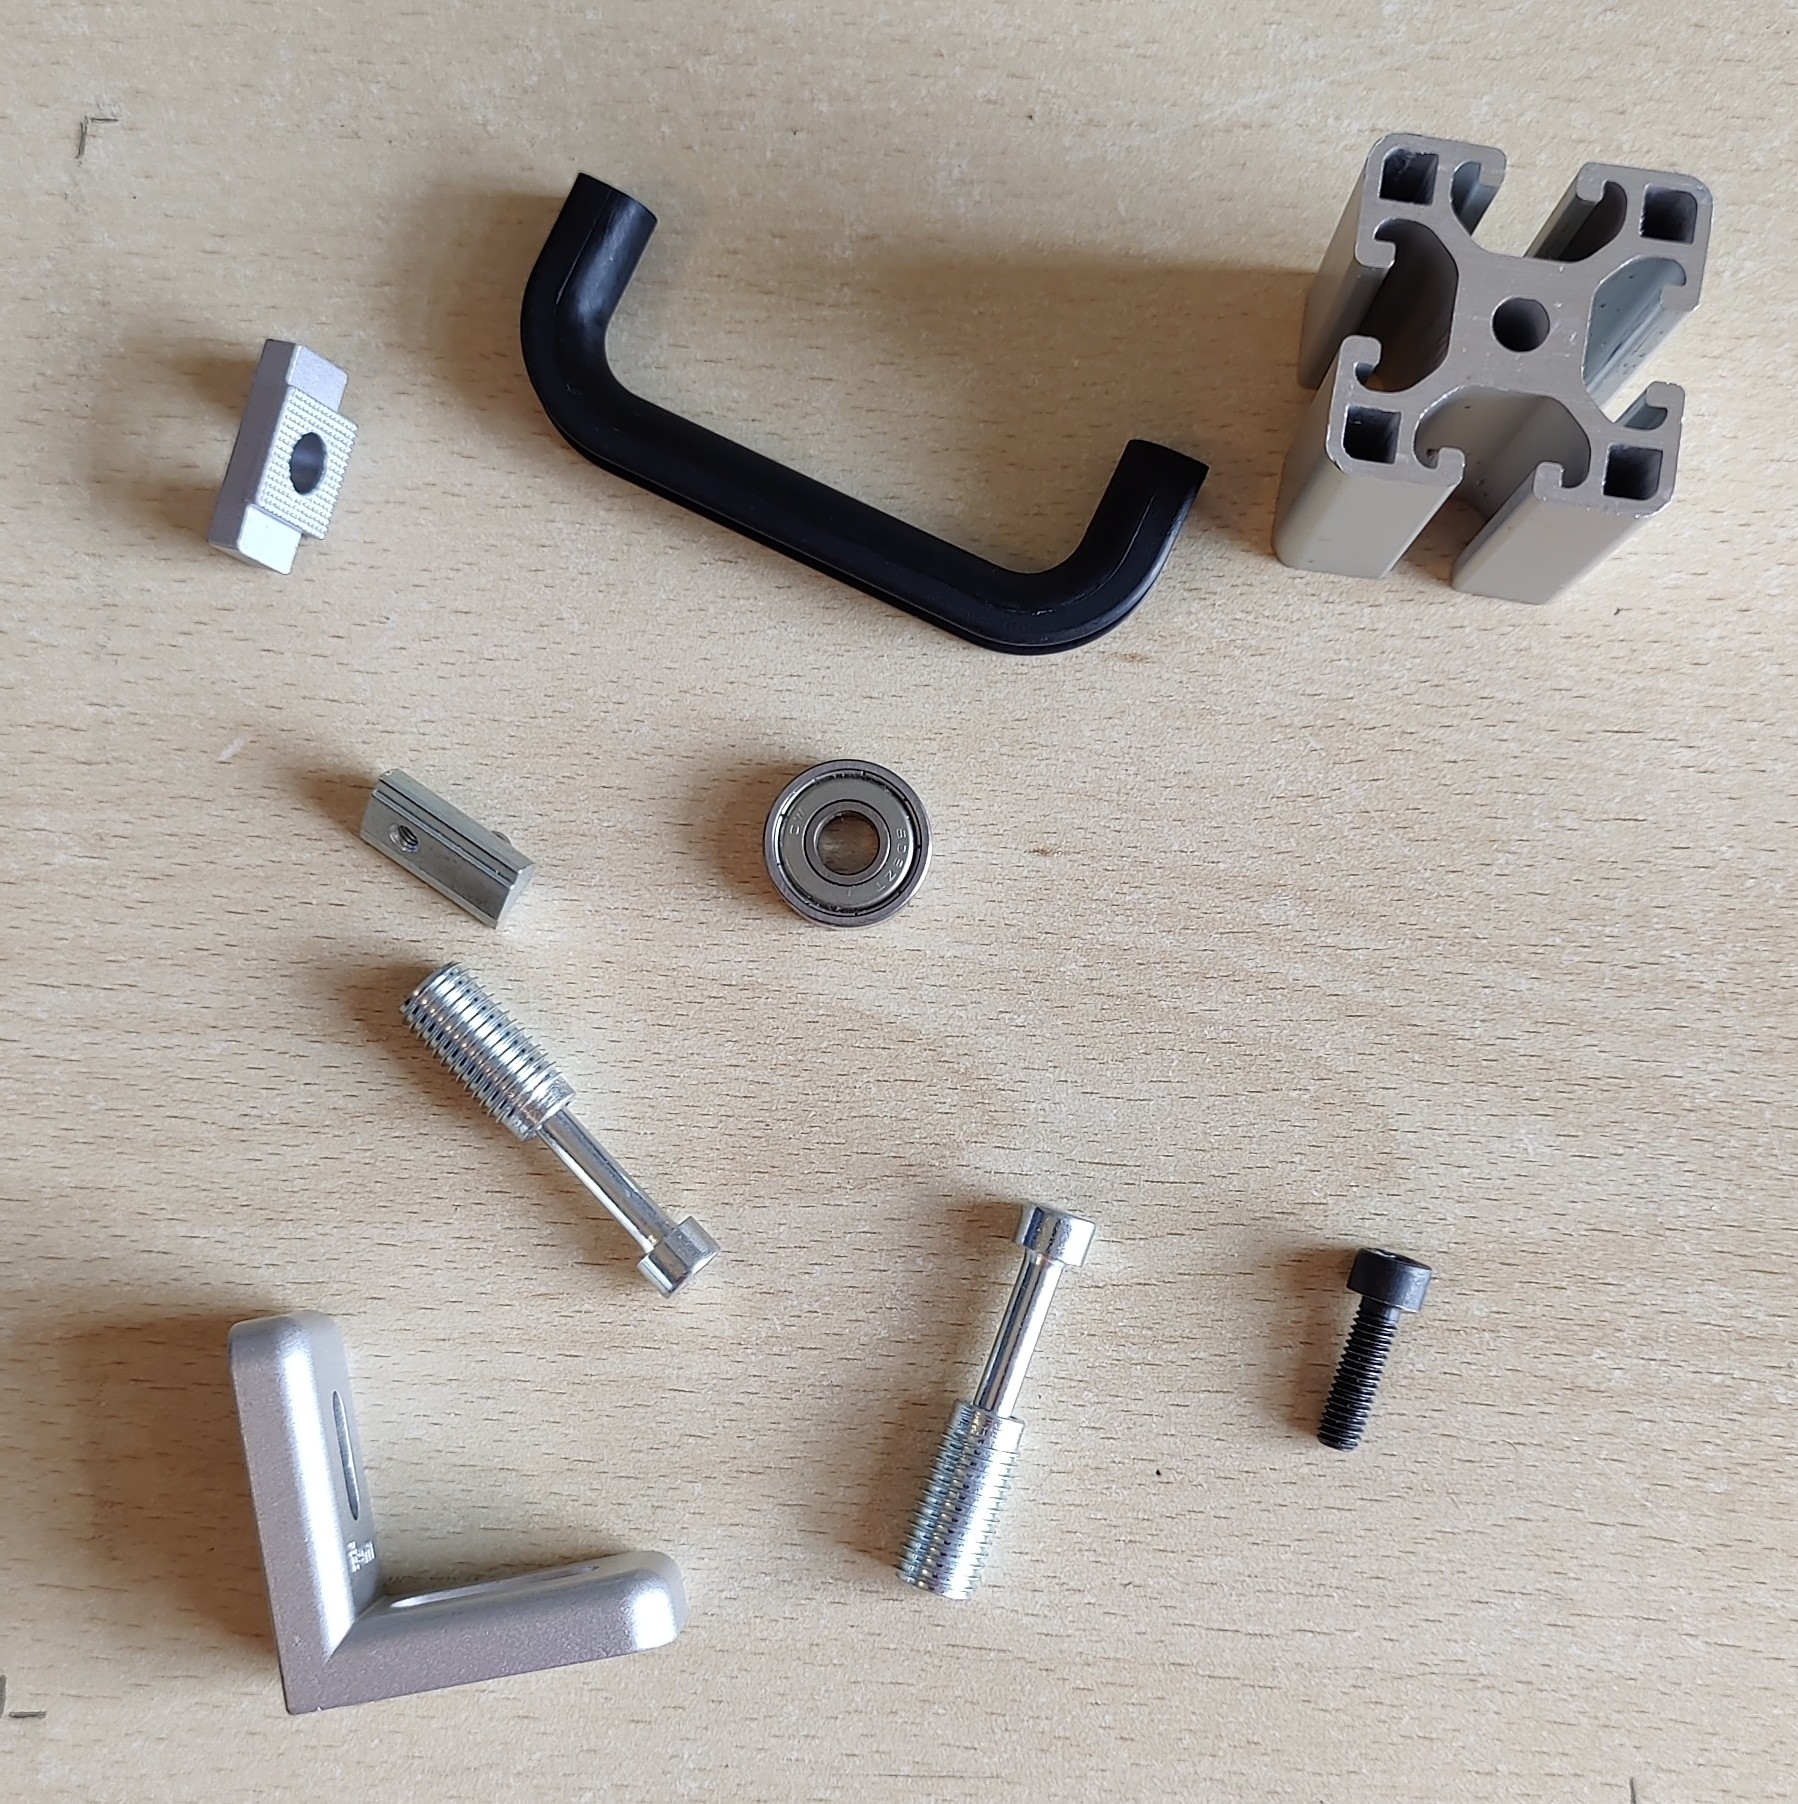Aluminium Extension: (1269, 130, 1714, 607)
Ball Bearing: (757, 756, 935, 930)
Multiwinkel: (226, 1309, 688, 1718)
Pull Handle: (517, 166, 1210, 658)
Shoulder Socket Head Cap Screw: (397, 960, 724, 1300), (892, 1197, 1098, 1605)
Socket Head Cap Screw: (1312, 1244, 1436, 1455)
T Nut Square: (204, 332, 359, 579)
T Spring Nut: (354, 765, 537, 932)
